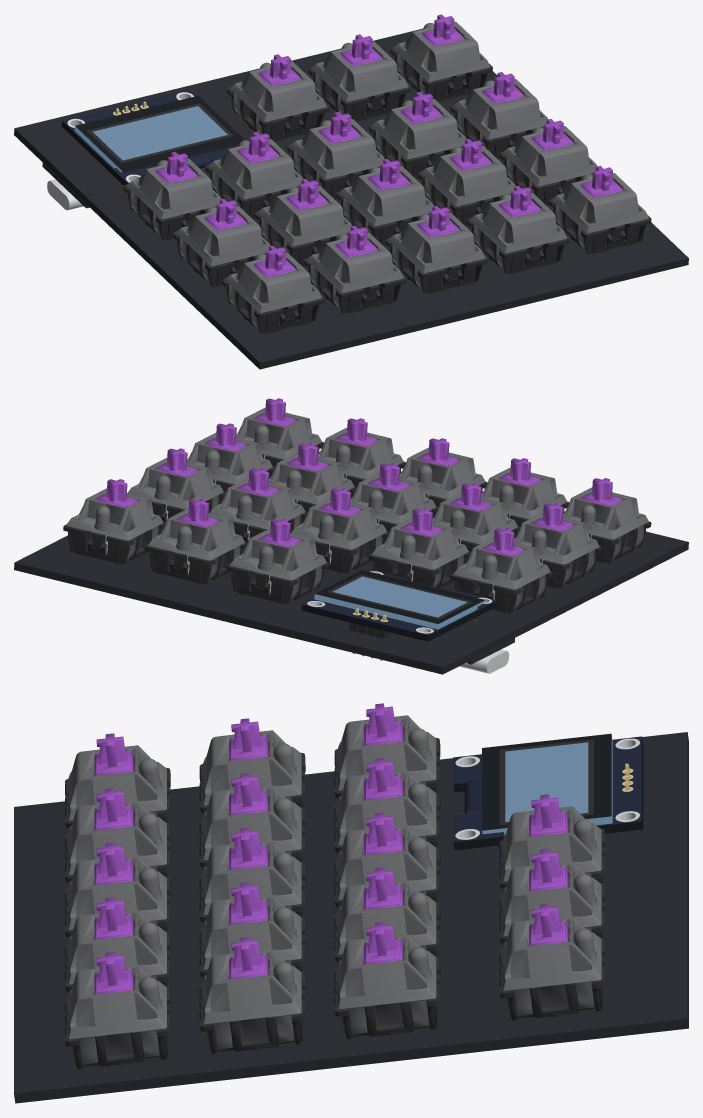
The model's file is placa.glb.
The picture shows the model from 3 angles, top to bottom: view 1: azimuth 30°, elevation 25°; view 2: azimuth 150°, elevation 25°; view 3: azimuth 270°, elevation 25°; orthographic projection. The views are drawn at different scales.
Visible parts, largest first — view 1: PCB, OLED_Module, Switch_R1C1, Switch_R1C5, Switch_R1C4, Switch_R1C2, Switch_R1C3, Switch_R4C3, Switch_R4C5, Switch_R4C4, Switch_R3C1, Switch_R2C1 (+9 smaller); view 2: PCB, OLED_Module, Switch_R4C3, Switch_R4C4, Switch_R4C5, Switch_R3C1, Switch_R3C2, Switch_R3C3, Switch_R1C1, Switch_R2C1, Switch_R3C4, Switch_R3C5 (+9 smaller); view 3: PCB, OLED_Module, Switch_R2C5, Switch_R3C5, Switch_R4C5, Switch_R1C5, Switch_R2C2, Switch_R4C4, Switch_R3C2, Switch_R3C3, Switch_R4C3, Switch_R2C3 (+8 smaller).
Boxes of the visible parts, x1,y1,x2,y2 form: PCB: (14,28,688,369); OLED_Module: (61,90,244,185); Switch_R1C1: (222,245,324,333); Switch_R1C5: (549,165,651,254); Switch_R1C4: (467,185,569,273); Switch_R1C2: (304,225,406,313); Switch_R1C3: (385,205,487,293); Switch_R4C3: (227,54,329,141); Switch_R4C5: (390,14,492,101); Switch_R4C4: (308,34,411,121); Switch_R3C1: (123,151,221,239); Switch_R2C1: (173,198,270,286); PCB: (14,452,688,674); OLED_Module: (301,569,497,660); Switch_R4C3: (226,519,329,604); Switch_R4C4: (145,499,247,584); Switch_R4C5: (63,479,165,564); Switch_R3C1: (450,528,552,613); Switch_R3C2: (368,508,470,588); Switch_R3C3: (291,488,389,573); Switch_R1C1: (563,478,651,563); Switch_R2C1: (514,503,601,588); Switch_R3C4: (209,468,307,542); Switch_R3C5: (127,448,225,523); PCB: (14,732,688,1103); OLED_Module: (453,733,643,850); Switch_R2C5: (199,937,305,1054); Switch_R3C5: (334,922,440,1038); Switch_R4C5: (499,903,605,1020); Switch_R1C5: (65,952,170,1068); Switch_R2C2: (199,773,305,867); Switch_R4C4: (499,849,605,943); Switch_R3C2: (334,758,440,852); Switch_R3C3: (334,812,440,907); Switch_R4C3: (499,794,605,888); Switch_R2C3: (199,827,305,922).
Bounding box in the file's own units: 101 × 26.93 × 99.42.
